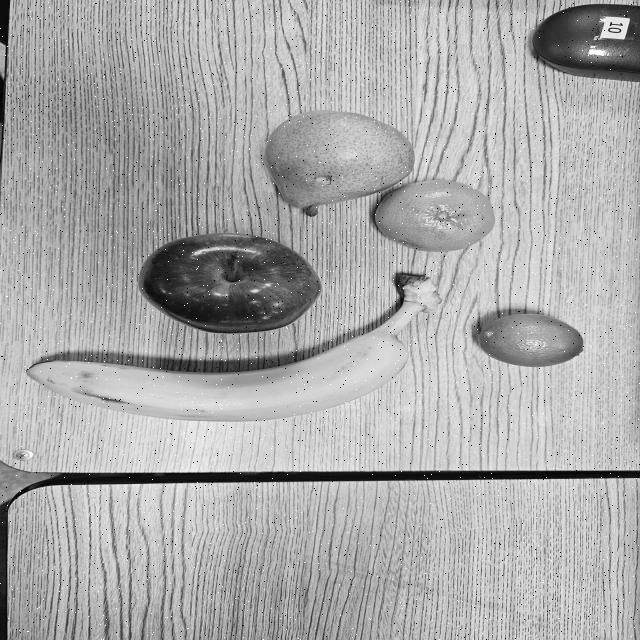Apel Merah: (130, 228, 328, 338)
Jeruk Mandarin: (374, 178, 501, 254)
Lemon: (467, 307, 587, 373)
Pir: (246, 104, 422, 223)
Pisang: (25, 270, 458, 430)
